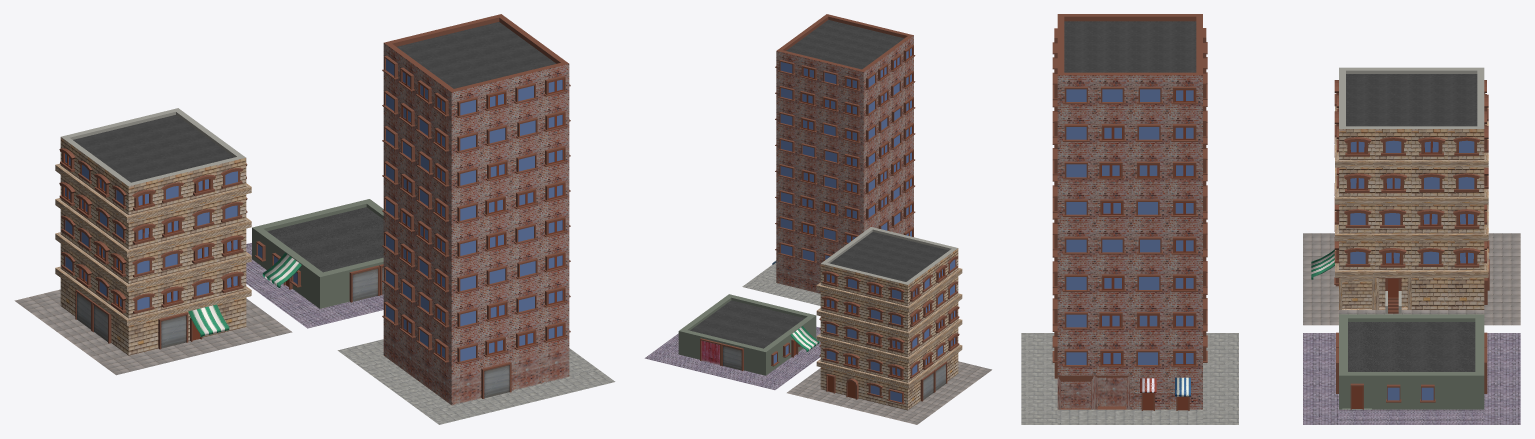
File: buildings.fbx
3 views of the same model, side by side, from view 1: azimuth 30°, elevation 25°; view 2: azimuth 150°, elevation 25°; view 3: azimuth 270°, elevation 25° (orthographic). The views are drawn at different scales.
Parts seen in each view (by area): view 1: recto.010, recto.011, recto.009; view 2: recto.010, recto.011, recto.009; view 3: recto.010, recto.011, recto.009.
Part boxes in pixels (bbox=[...]): recto.010: bbox=[337, 14, 615, 424]; recto.011: bbox=[14, 108, 292, 375]; recto.009: bbox=[246, 199, 383, 328]; recto.010: bbox=[742, 14, 915, 305]; recto.011: bbox=[787, 227, 991, 424]; recto.009: bbox=[644, 294, 820, 390]; recto.010: bbox=[1021, 14, 1238, 424]; recto.011: bbox=[1303, 67, 1520, 325]; recto.009: bbox=[1303, 314, 1520, 424].
Bounding box in the file's own units: 4.17 × 3.39 × 4.59.
